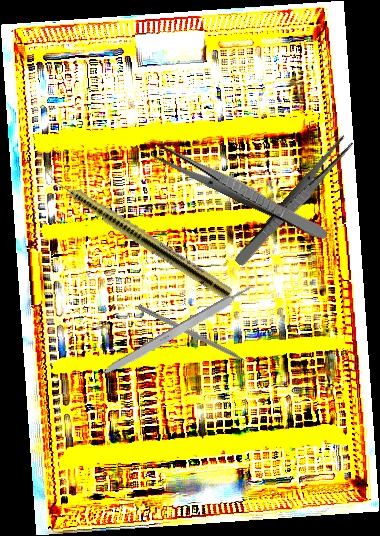Chopper: (133, 303, 261, 377)
Dressing Forceps: (151, 141, 332, 243), (232, 133, 356, 271)
Handpiece: (34, 162, 236, 302)
Scalpel Handle: (98, 283, 256, 381)
